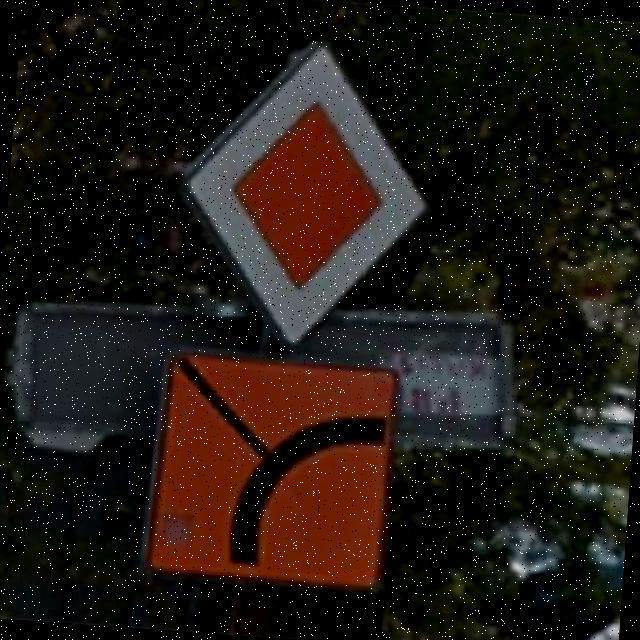Droga z pierwszenstwem: (166, 29, 440, 360)
